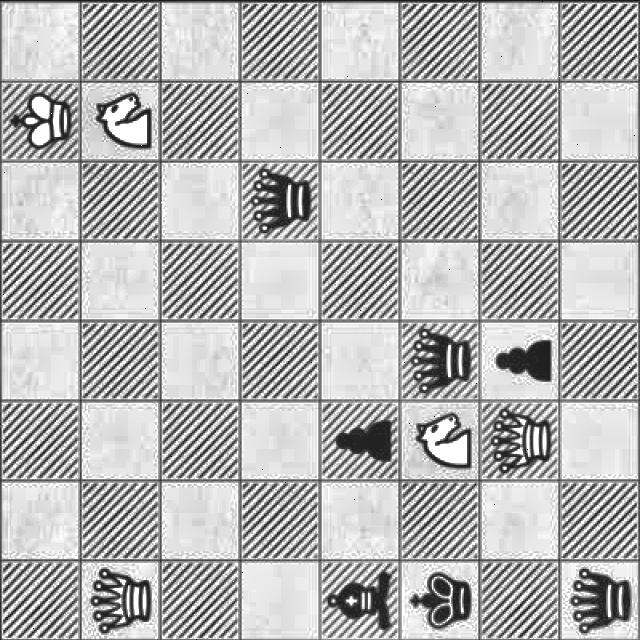black bishop: (329, 566, 402, 636)
black king: (407, 566, 478, 634)
black pawn: (324, 409, 396, 472), (484, 330, 559, 388)
black queen: (408, 324, 474, 394), (568, 566, 634, 636), (248, 164, 312, 233)
white king: (5, 84, 74, 150)
white queen: (486, 403, 554, 478), (85, 566, 158, 634)
whiteknight: (87, 80, 157, 156), (414, 411, 473, 469)
